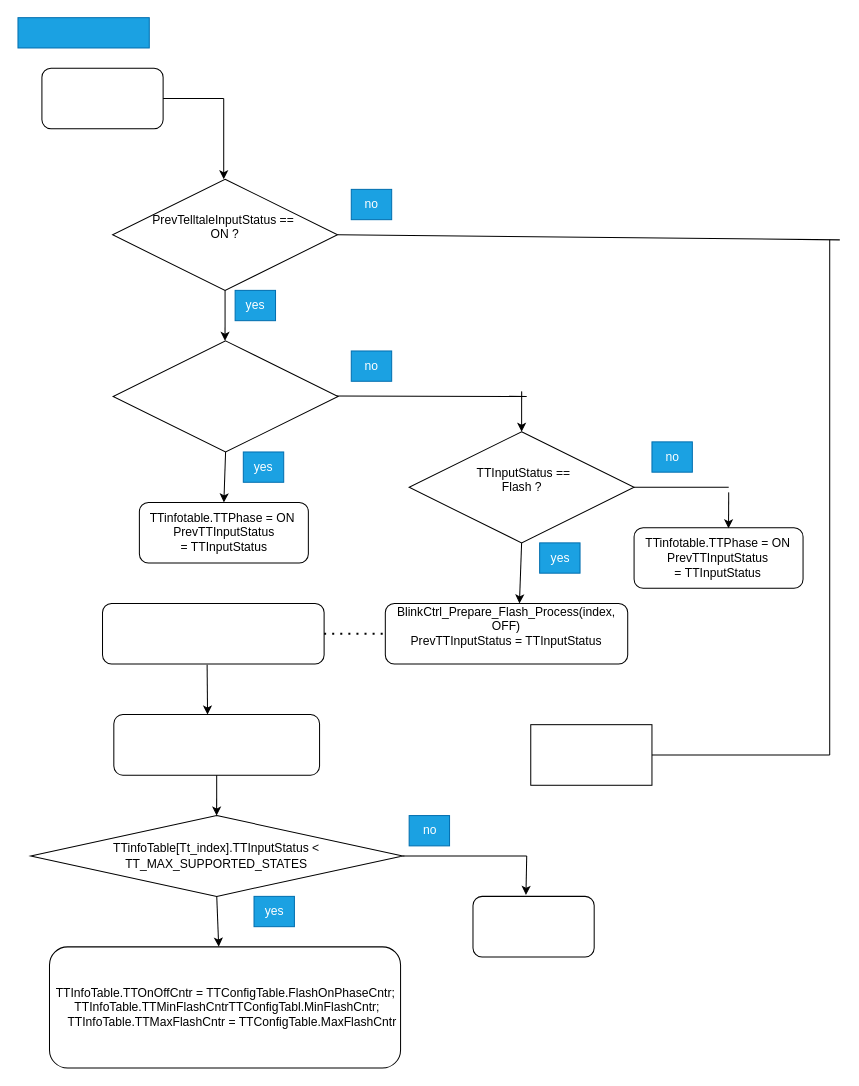
This 859x1086 diagram has some shape labels left out. Each missing label, with the centre of its shape:
"BlinkCtrl_Prepare_Flash_Process" goes at (213,633).
"Blinking process Flash to Further states (OFF, ON, FLASH)" goes at (591,754).
"Blinking process ON to Further States (OFF, FLASH)" goes at (102,98).
"No change" goes at (533,926).
"STATE3 & STATE4" goes at (83,32).
"TTinfotable.PatternSize = 2 TTinfotable.TTPhase = OFF" goes at (216,744).
"TTInputStatus == OFF ?" goes at (225,396).
